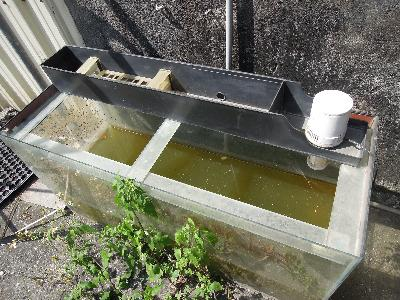aquarium: (1, 42, 379, 300)
